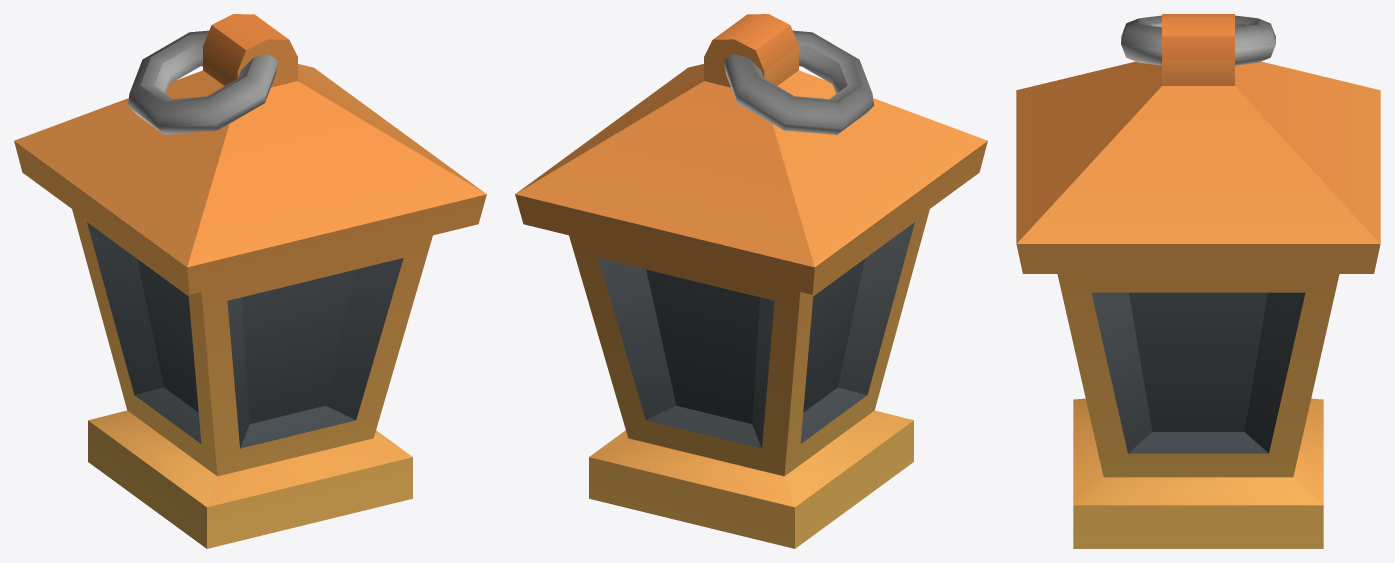
The model's file is lantern.obj.
The picture shows the model from 3 angles, left to right: view 1: azimuth 30°, elevation 25°; view 2: azimuth 150°, elevation 25°; view 3: azimuth 270°, elevation 25°; orthographic projection. The views are drawn at different scales.
Parts seen in each view (by area): view 1: lantern_standing; view 2: lantern_standing; view 3: lantern_standing.
Part boxes in pixels (<box>): lantern_standing: <box>14,14,486,548</box>; lantern_standing: <box>515,14,987,548</box>; lantern_standing: <box>1016,14,1380,548</box>.
Size of the model in its own units: 0.64 by 0.9252 by 0.64.
Materials: 1 (1 with a texture image).
